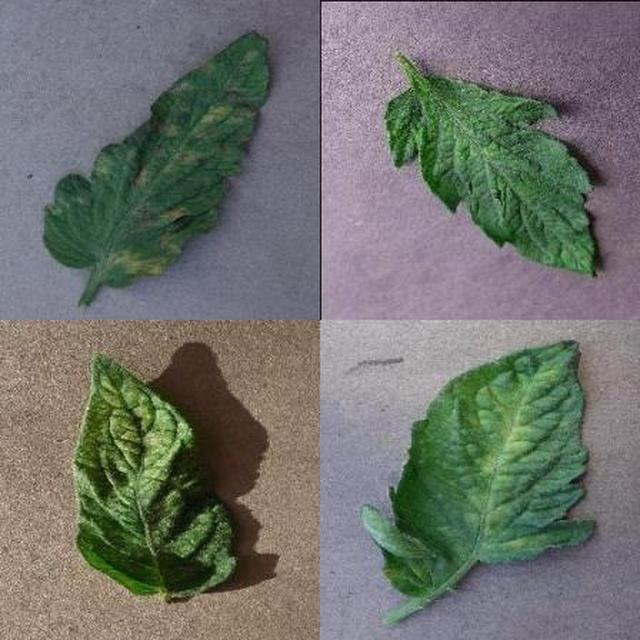Leaf Mold: (219, 227, 640, 640)
